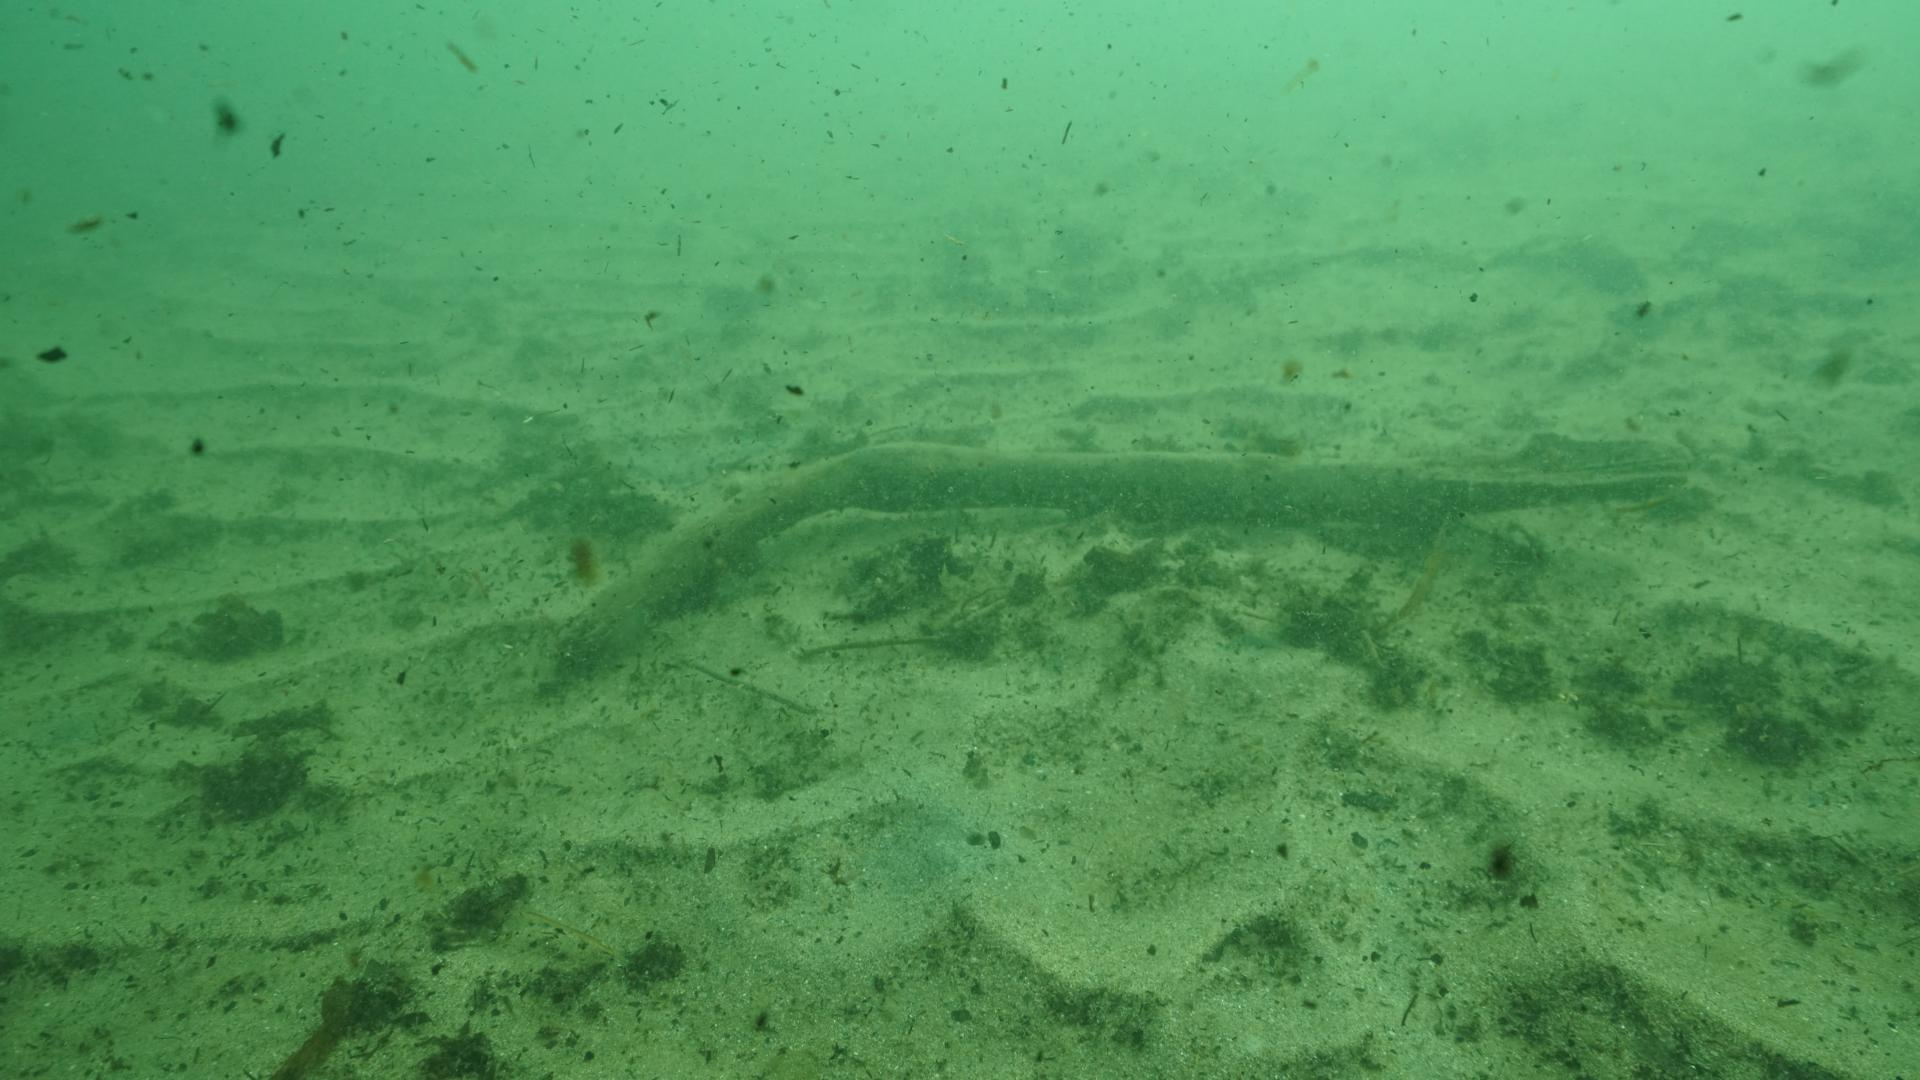wood: (547, 440, 1688, 682)
